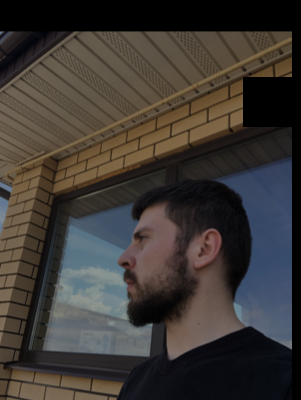without_mask: (116, 217, 175, 326)
